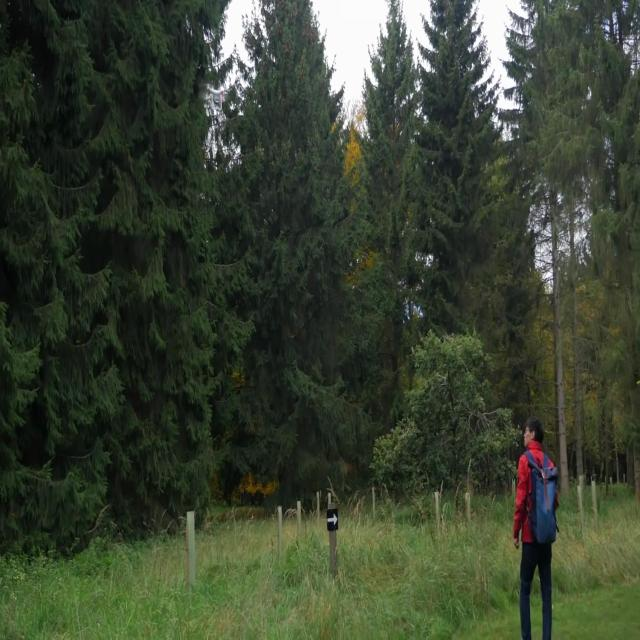drone: (0, 353, 640, 640)
